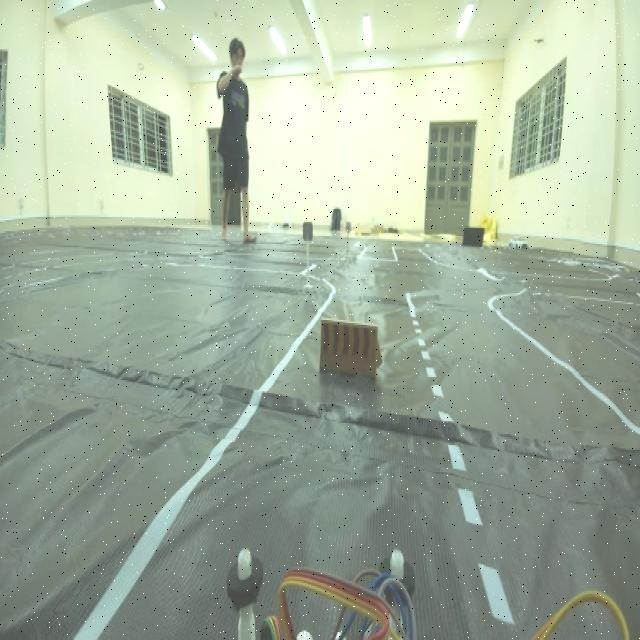roadblock: (311, 300, 388, 405)
